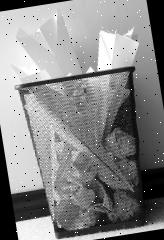paper: (11, 6, 82, 84), (90, 24, 142, 72)
